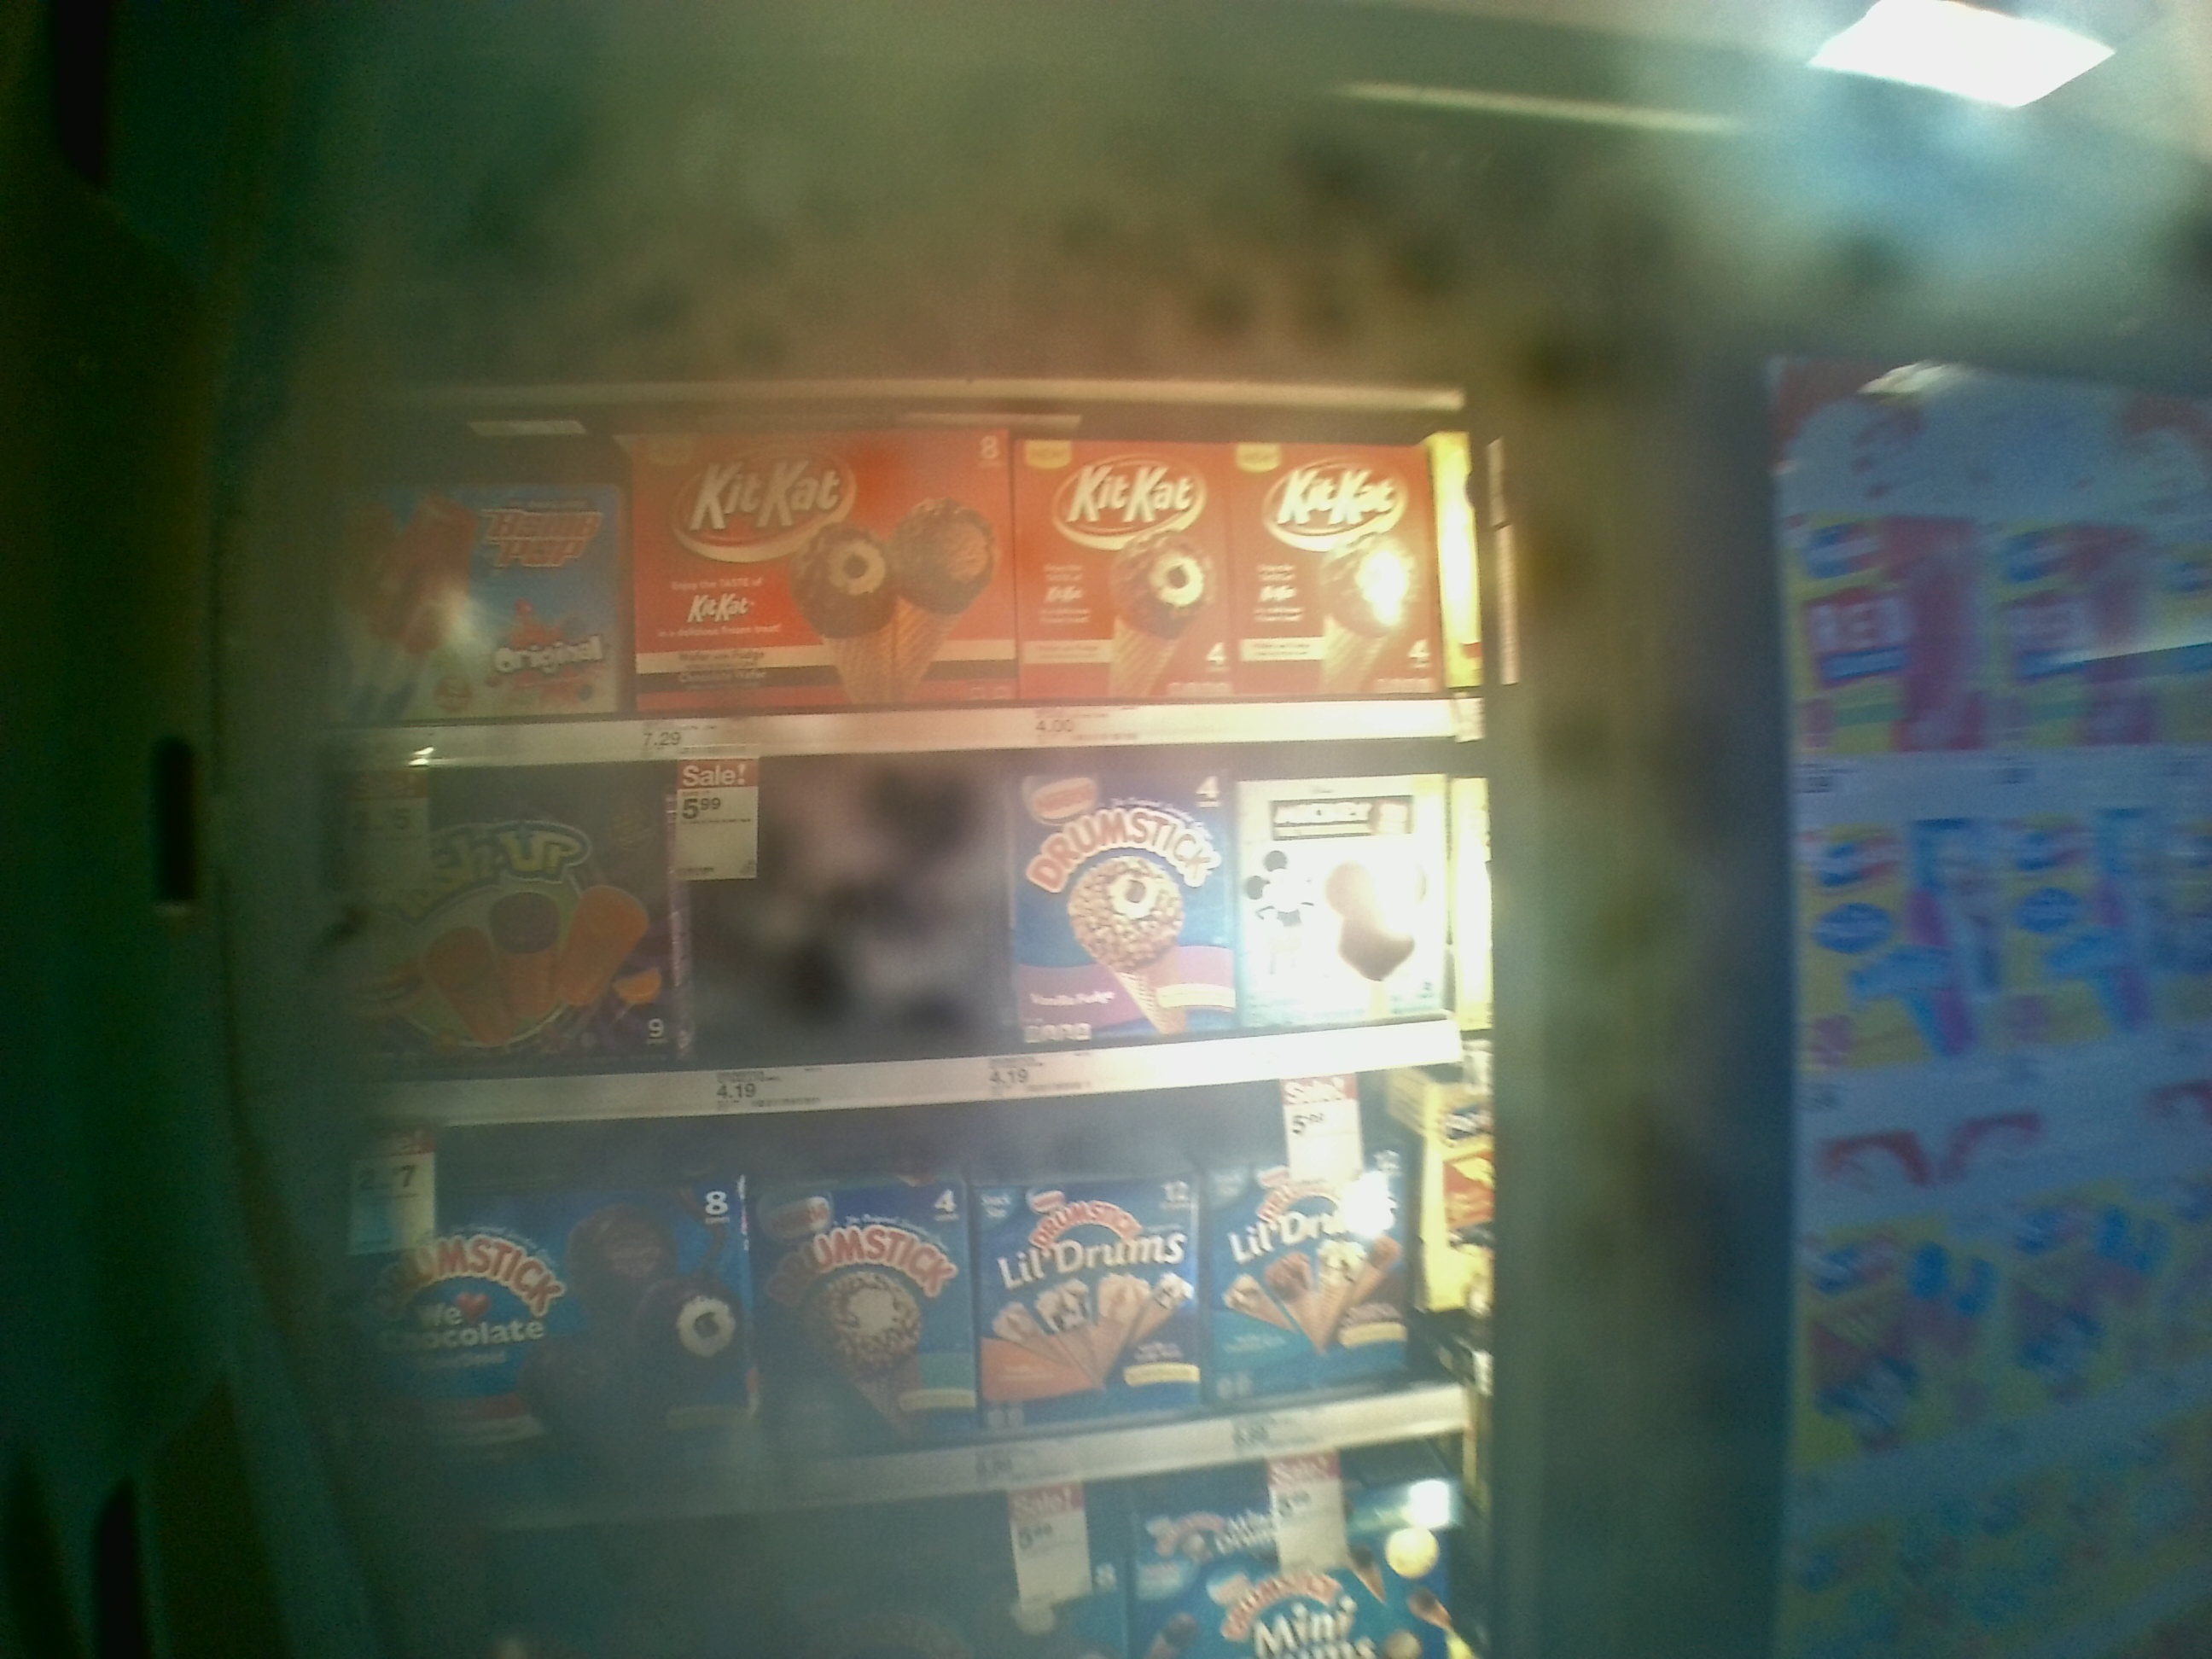shelf: (308, 727, 1498, 1122), (303, 396, 1486, 756)
